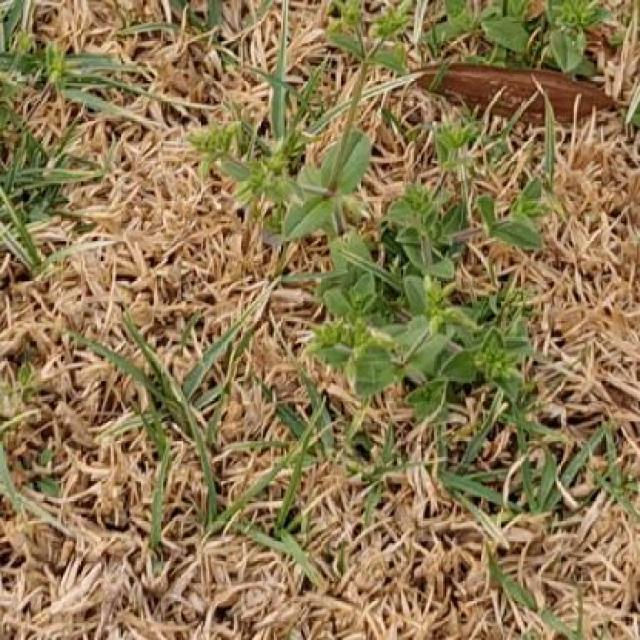weed: (191, 0, 558, 422), (0, 46, 135, 264), (80, 322, 248, 461), (432, 0, 606, 75), (442, 442, 605, 513)
